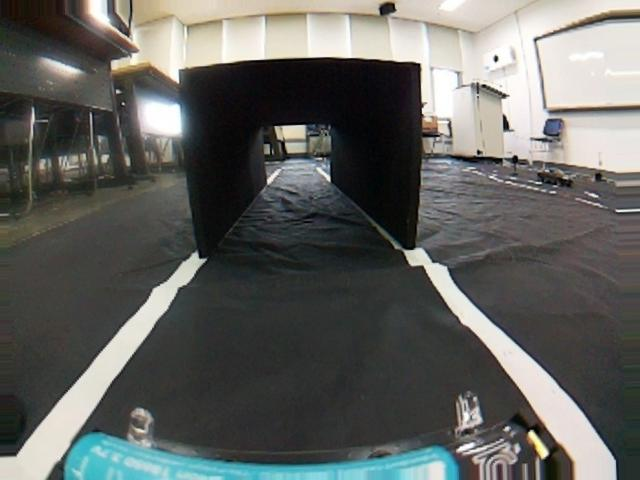straight: (1, 188, 640, 480)
